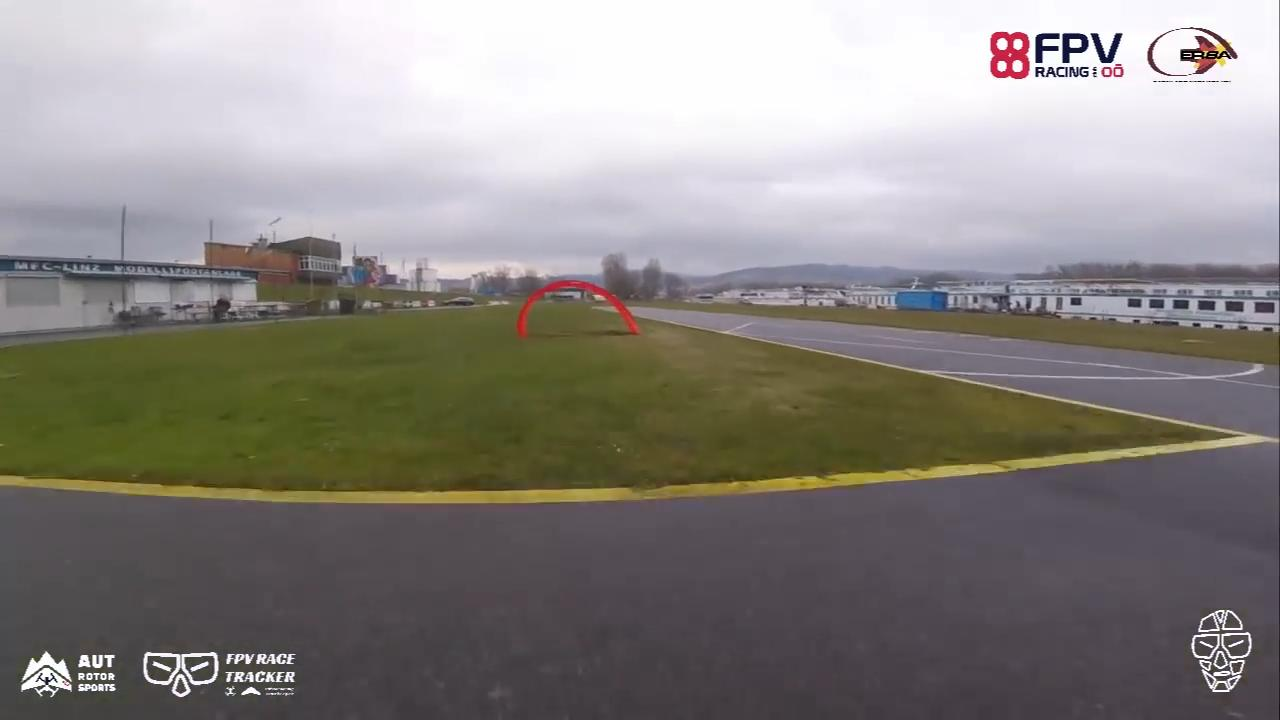gate: (513, 277, 641, 338)
